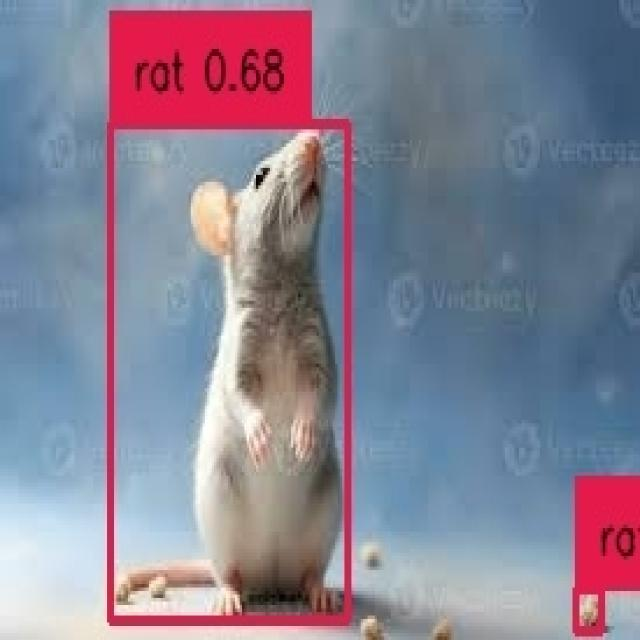rat: (107, 119, 344, 615), (573, 584, 598, 626)
